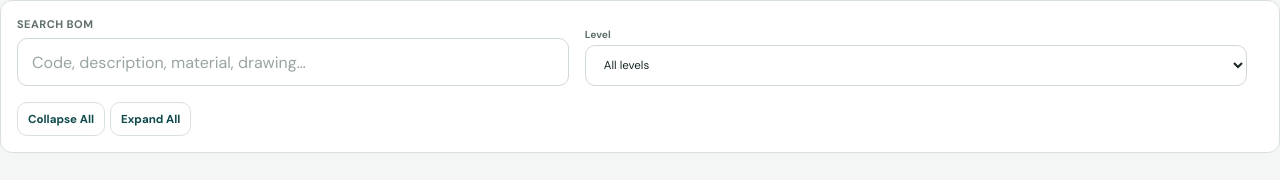
BomToolbar › clear filters restores defaults once a filter is active
Expected: the button "clear filters" is not shown
Select "3" in the dropdown named "filter by level" at {"x": 916, "y": 66}, box [585,45,1247,86]
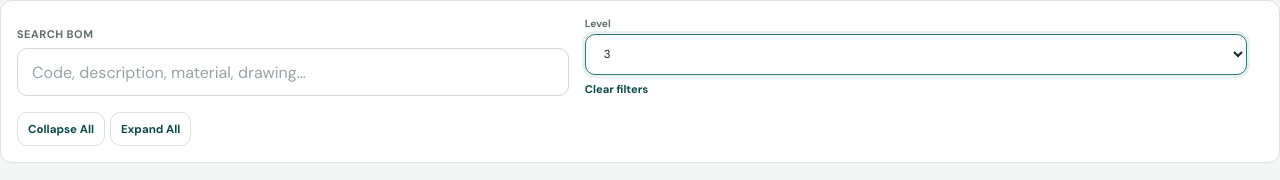
Click the button "Clear filters" at {"x": 617, "y": 89}, box [585,82,648,96]
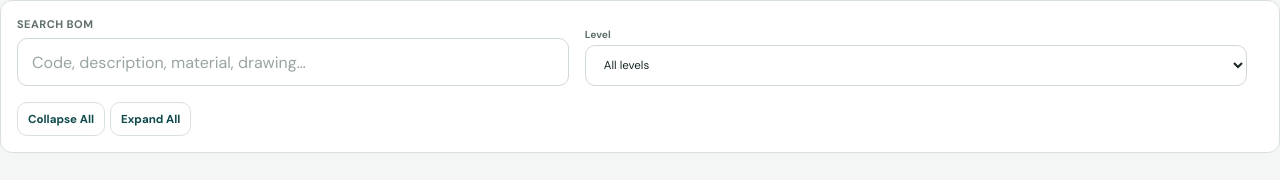
Expected: the button "Clear filters" is gone
